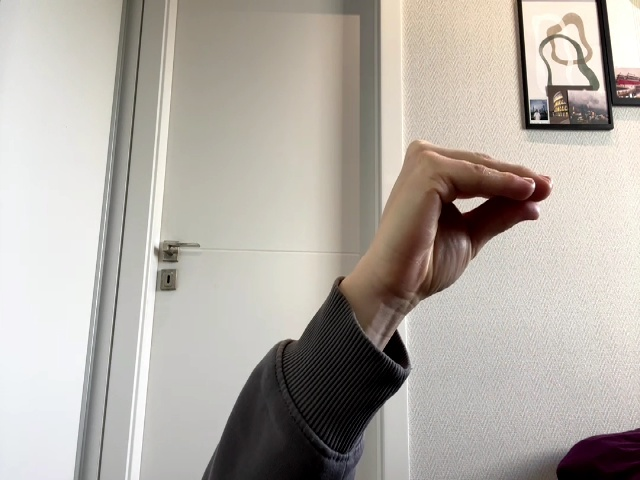E: (369, 140, 553, 332)
